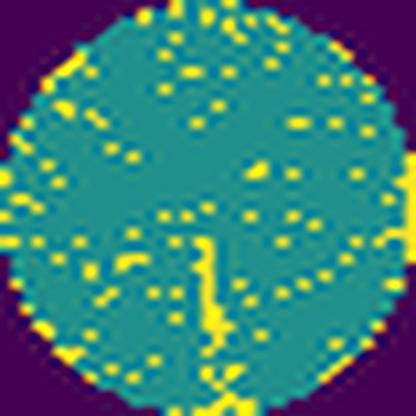Scratch: (188, 232, 239, 365)
